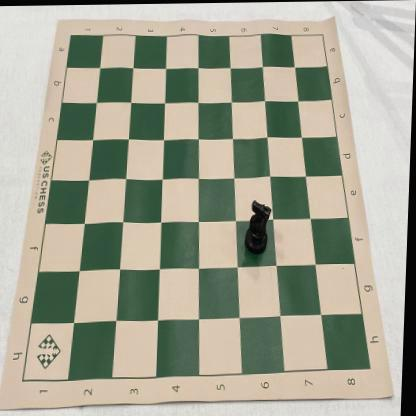black-knight: (246, 200, 274, 257)
